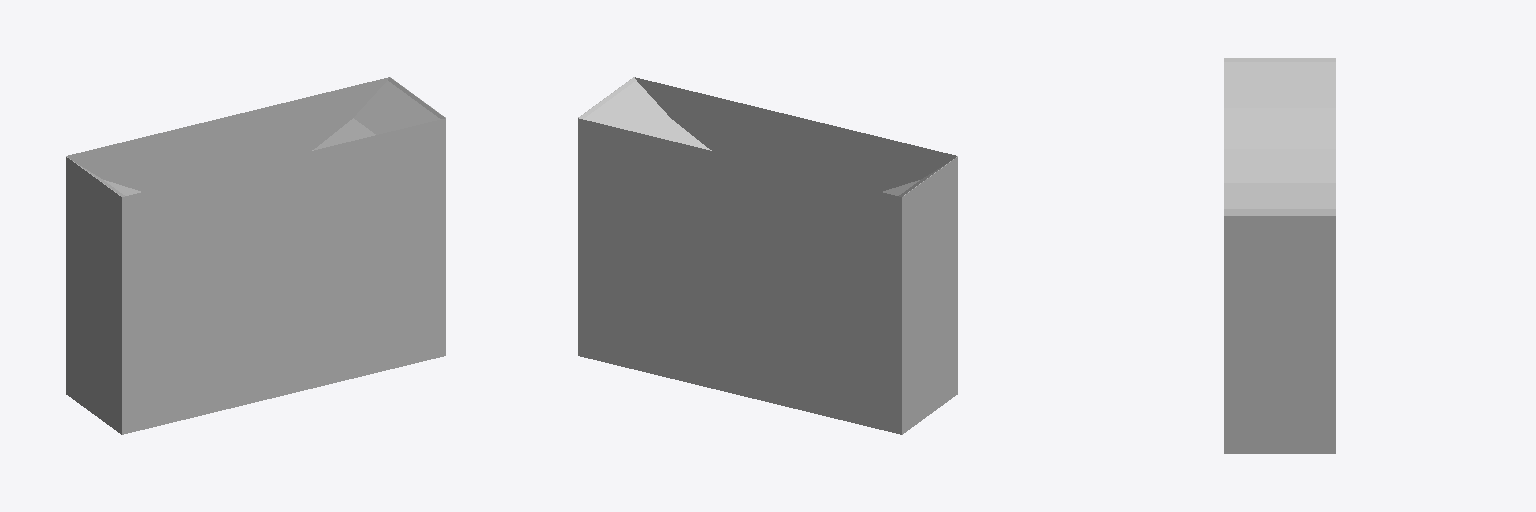
The model's file is concave-object.obj.
3 renders of one model, left to right at view 1: azimuth 30°, elevation 25°; view 2: azimuth 150°, elevation 25°; view 3: azimuth 270°, elevation 25°, orthographic.
Parts seen in each view (by area): view 1: 3convex; view 2: 3convex; view 3: 3convex.
Part boxes in pixels (x1,y1,x2,y2): 3convex: (66, 77, 445, 434); 3convex: (578, 77, 957, 434); 3convex: (1224, 58, 1335, 453).
Bounding box in the file's own units: 1 × 0.7 × 0.3.